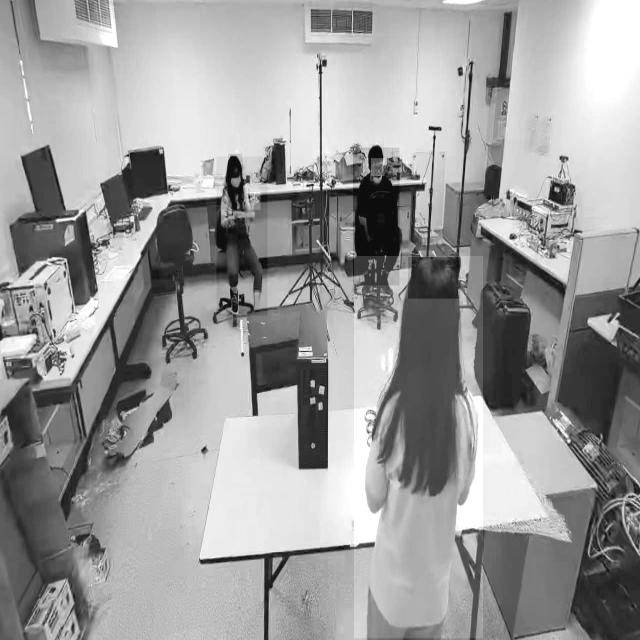face_mask: (229, 164, 243, 193)
face_nomask: (370, 158, 384, 177)
glasses: (371, 163, 385, 176)
hand_noglove: (250, 192, 260, 211), (227, 214, 236, 228)
head_nohelmet: (408, 257, 460, 299), (368, 144, 384, 158), (228, 154, 242, 167)
person: (353, 256, 483, 639), (216, 156, 268, 316), (352, 147, 400, 286)
shoes: (378, 268, 397, 300), (226, 286, 241, 313), (359, 273, 374, 299)
